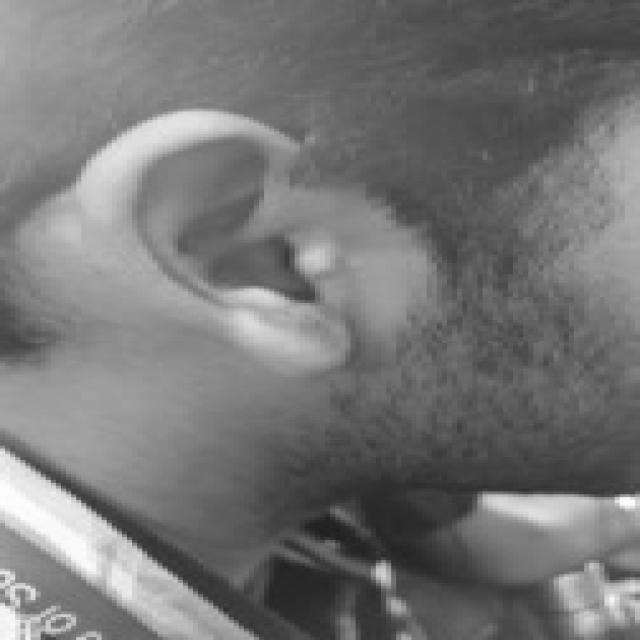ear: (76, 111, 340, 363), (148, 286, 152, 291)
